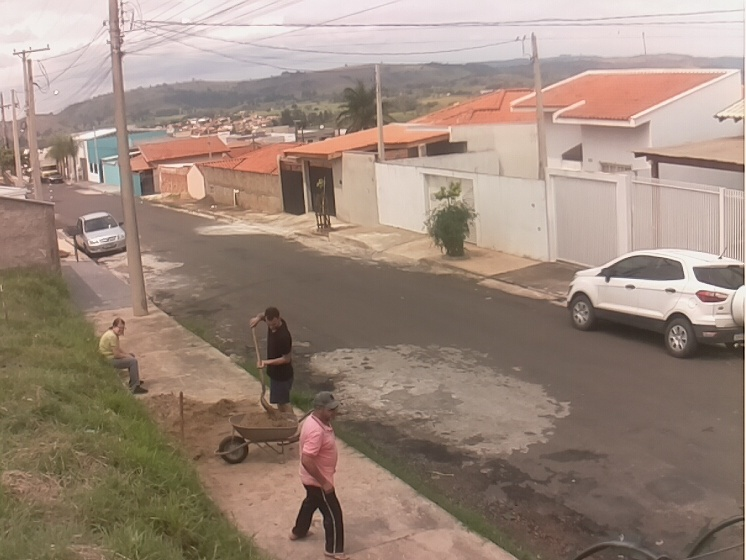person: (290, 389, 349, 560), (250, 306, 296, 416), (98, 317, 149, 395)
